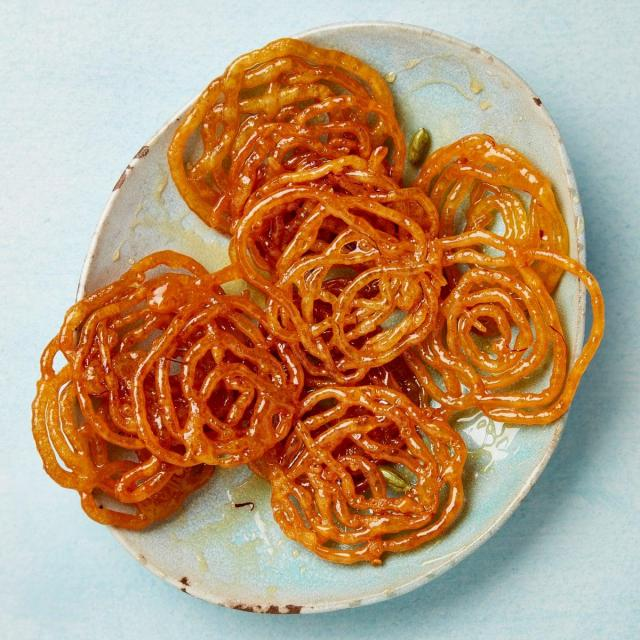jalebi: (176, 30, 588, 548), (27, 271, 247, 515)
